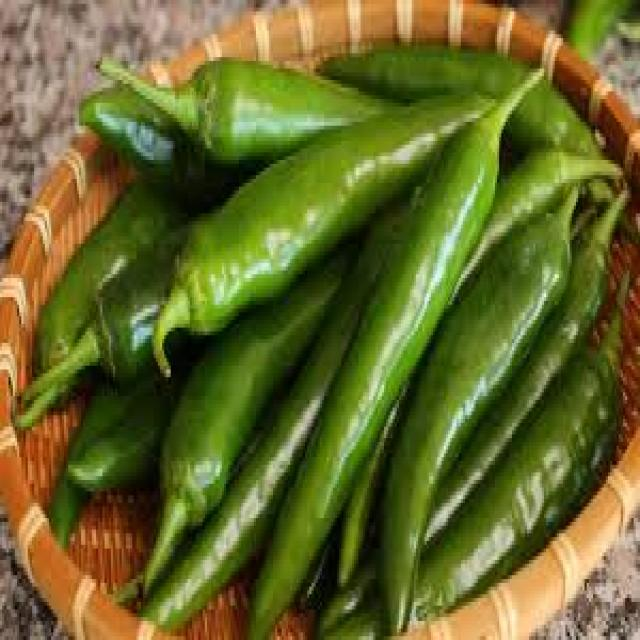green chilli: (250, 80, 527, 638), (156, 99, 501, 349), (382, 202, 577, 583), (102, 61, 384, 166)
